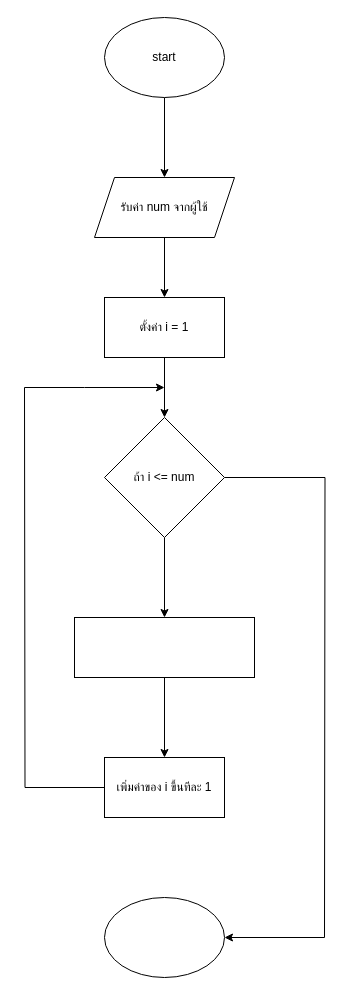
This 350x995 diagram has some shape labels left out. The shapes that lost their labels are listed below. From the top down, each one's centre as x and y in pixels, then its label:
(x=164, y=647): พิมพ์ข้อความ [i] Hello World
(x=164, y=937): end
